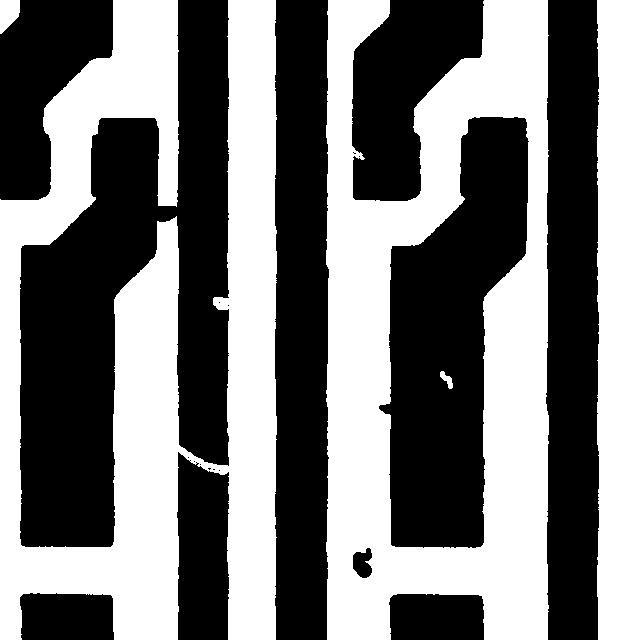copper: (343, 538, 381, 587)
mousebite: (335, 136, 374, 169), (203, 287, 240, 319)
open: (154, 428, 239, 484)
pin-hole: (430, 361, 462, 398)
short: (142, 196, 188, 231)
spur: (369, 394, 403, 423)
